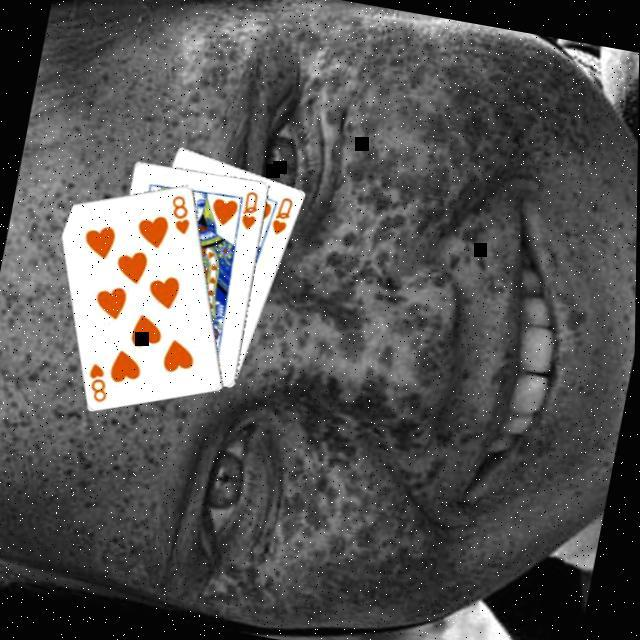8H: (162, 188, 198, 236), (82, 356, 115, 404)
QH: (267, 190, 297, 237), (236, 184, 264, 232)
